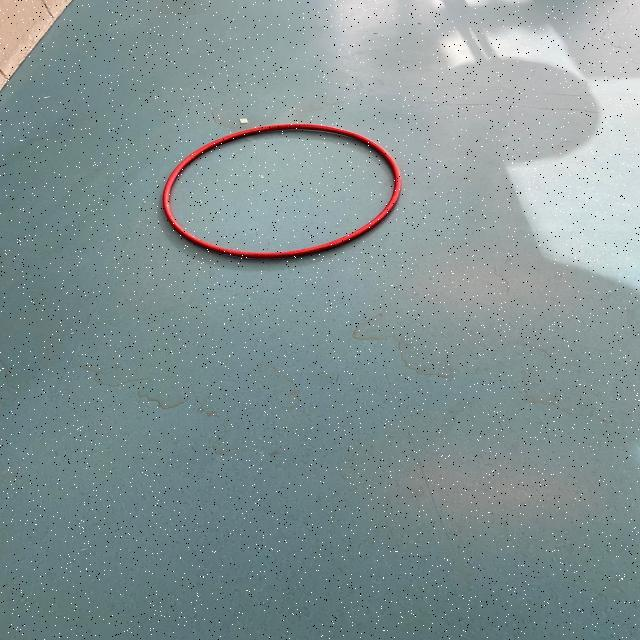Circle: (154, 110, 410, 264)
